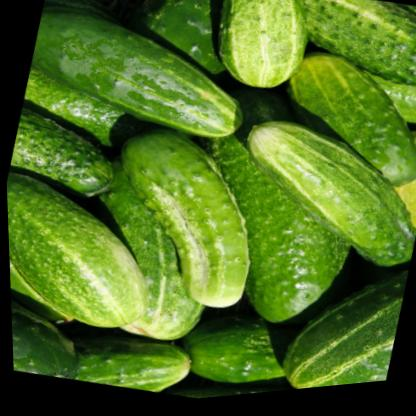--: (87, 117, 289, 334), (17, 0, 261, 166), (218, 112, 416, 301), (5, 155, 176, 348), (265, 51, 416, 216), (201, 0, 316, 104)
